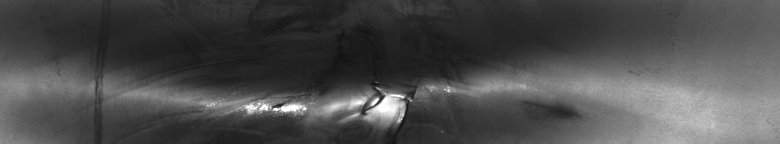ke: (196, 76, 464, 136)
